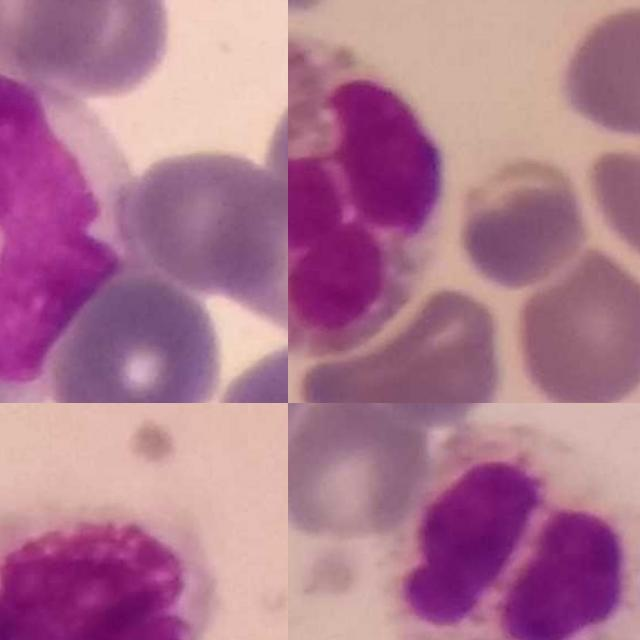Eosinophil: (288, 33, 449, 362)
Monocyte: (0, 44, 146, 398), (0, 495, 216, 640)
Neutrophil: (389, 423, 640, 640)
